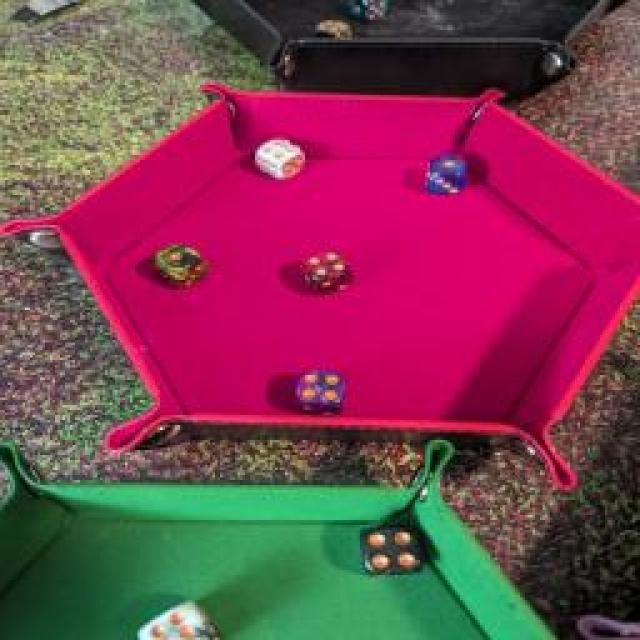dice_1: (150, 239, 210, 289), (420, 146, 470, 196)
dice_4: (361, 519, 424, 576), (286, 365, 352, 417), (295, 248, 357, 294), (252, 134, 308, 178), (314, 16, 354, 44)
dice_6: (120, 597, 217, 640)
